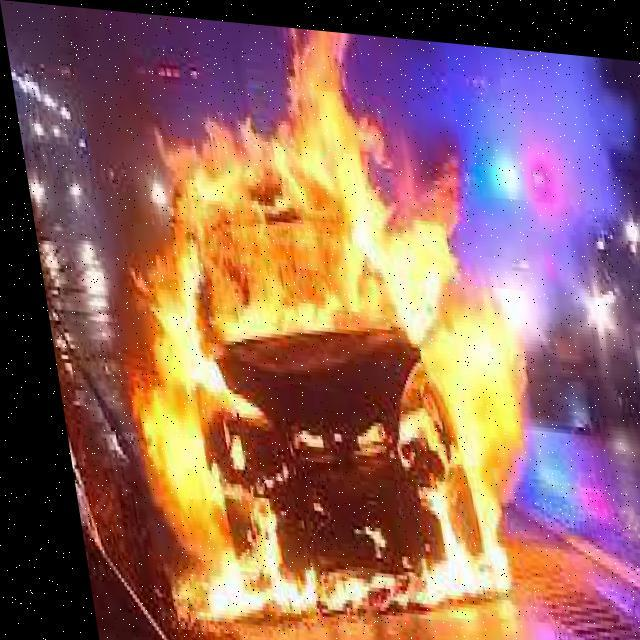Fire: (46, 31, 558, 638)
